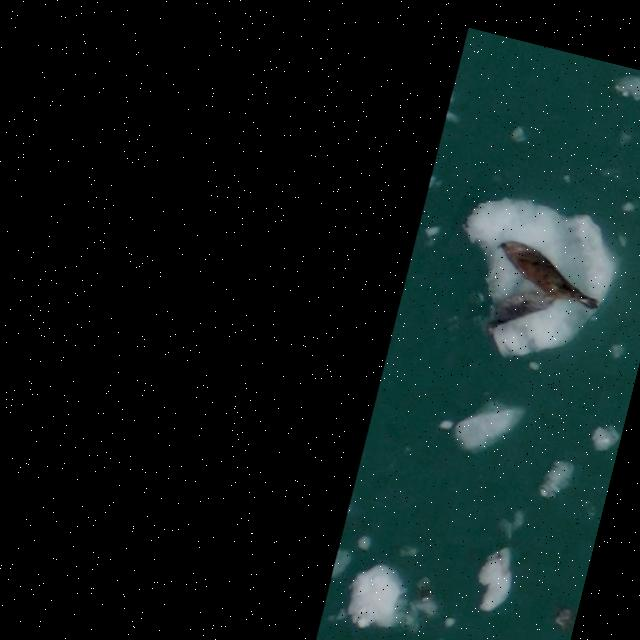seal: (491, 225, 603, 327)
